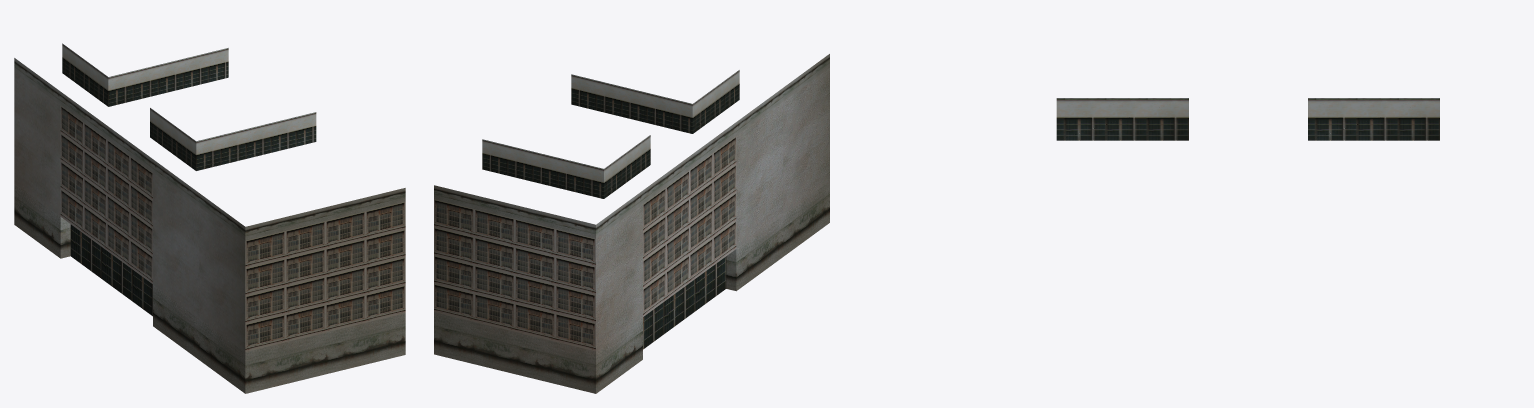
The model's file is M10_Z02_11_Tower.glb.
3 renders of one model, left to right at view 1: azimuth 30°, elevation 25°; view 2: azimuth 150°, elevation 25°; view 3: azimuth 270°, elevation 25°, orthographic. The views are drawn at different scales.
Visible parts, largest first — view 1: M10_Z02_11_TOWER; view 2: M10_Z02_11_TOWER; view 3: M10_Z02_11_TOWER.
Boxes of the visible parts, bbox=[...] form: M10_Z02_11_TOWER: bbox=[14, 43, 405, 393]; M10_Z02_11_TOWER: bbox=[434, 54, 829, 393]; M10_Z02_11_TOWER: bbox=[1056, 98, 1439, 140].
Bounding box in the file's own units: 16 × 18.83 × 40.
Materials: 4 (4 with a texture image).
